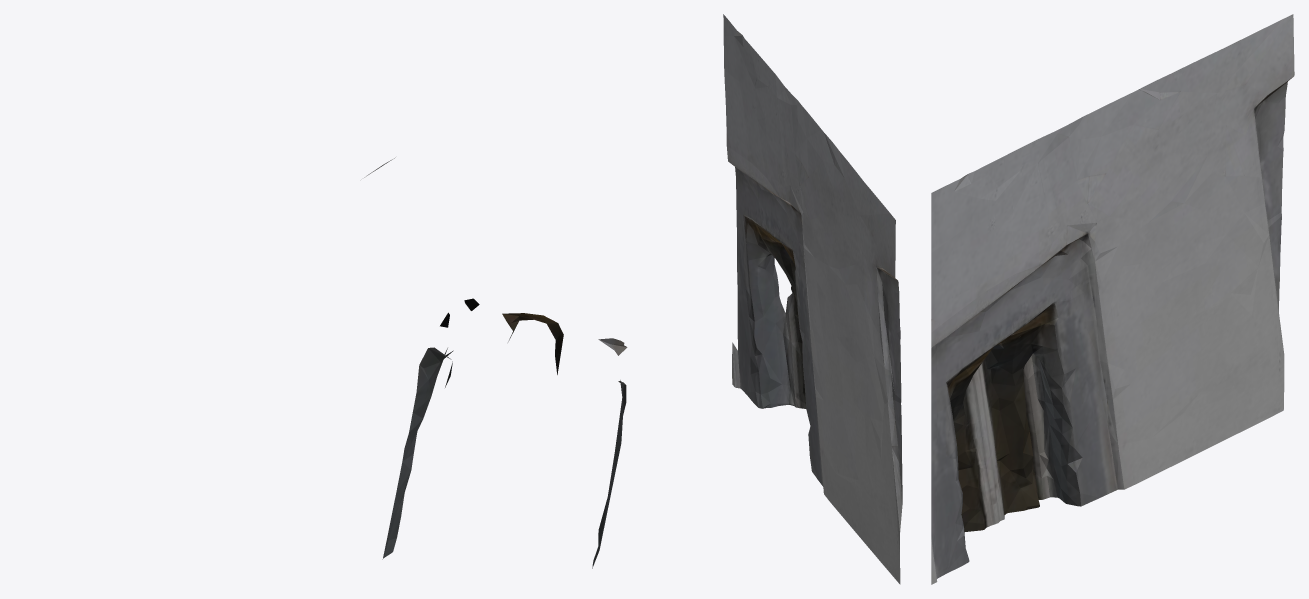
3 views of the same model, side by side, from view 1: azimuth 30°, elevation 25°; view 2: azimuth 150°, elevation 25°; view 3: azimuth 270°, elevation 25° (orthographic). The views are drawn at different scales.
Size of the model in its own units: 1.62 by 1.67 by 1.39.
3 materials, 3 textured.
